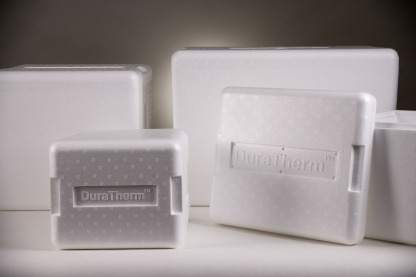Foam Box: (206, 82, 380, 247)
